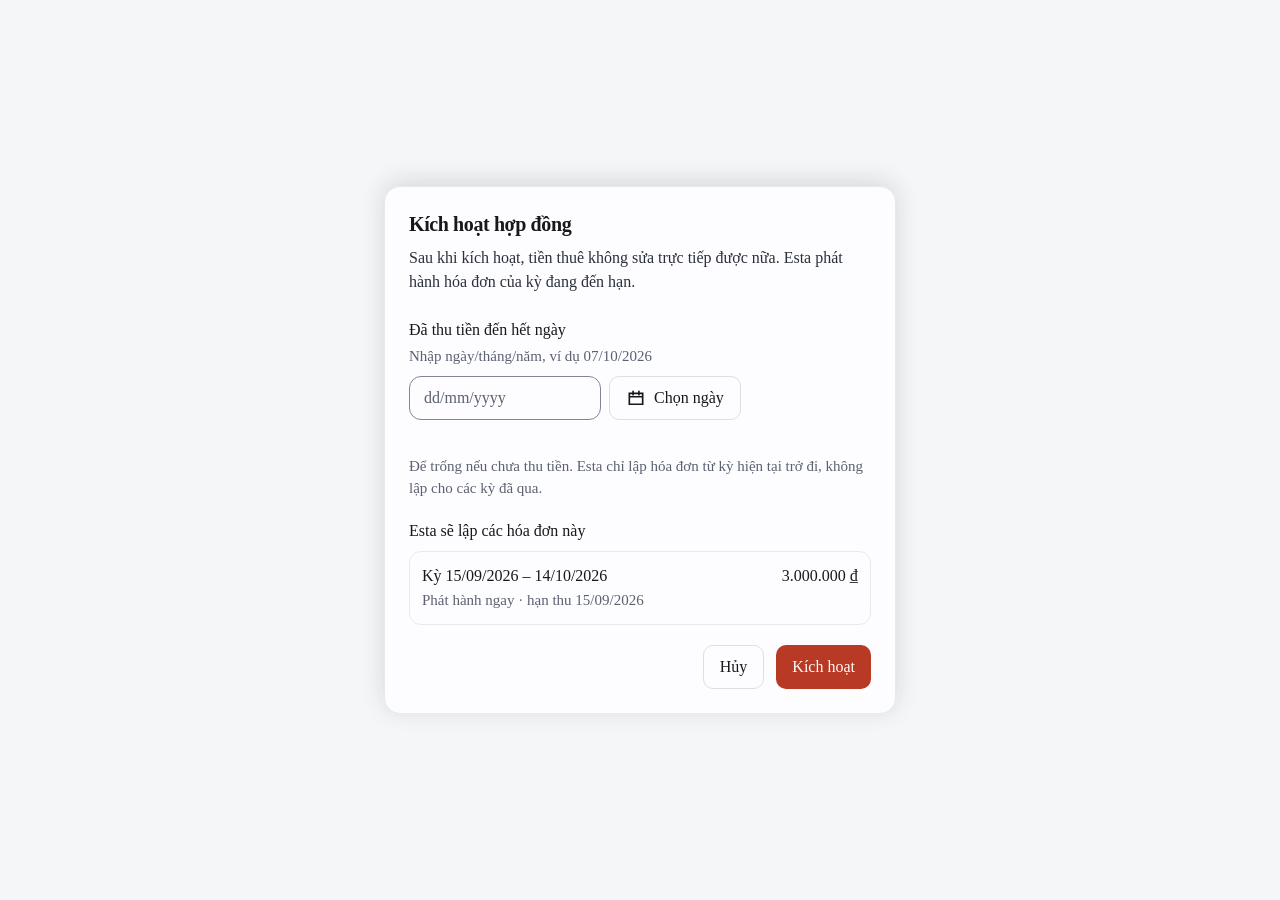
Test: ActivateLeaseDialog paid-through date › shows the server refusal of an unreadable date under the field
Click the button with test id "confirm-activate" at (824, 667), box [776, 645, 871, 689]
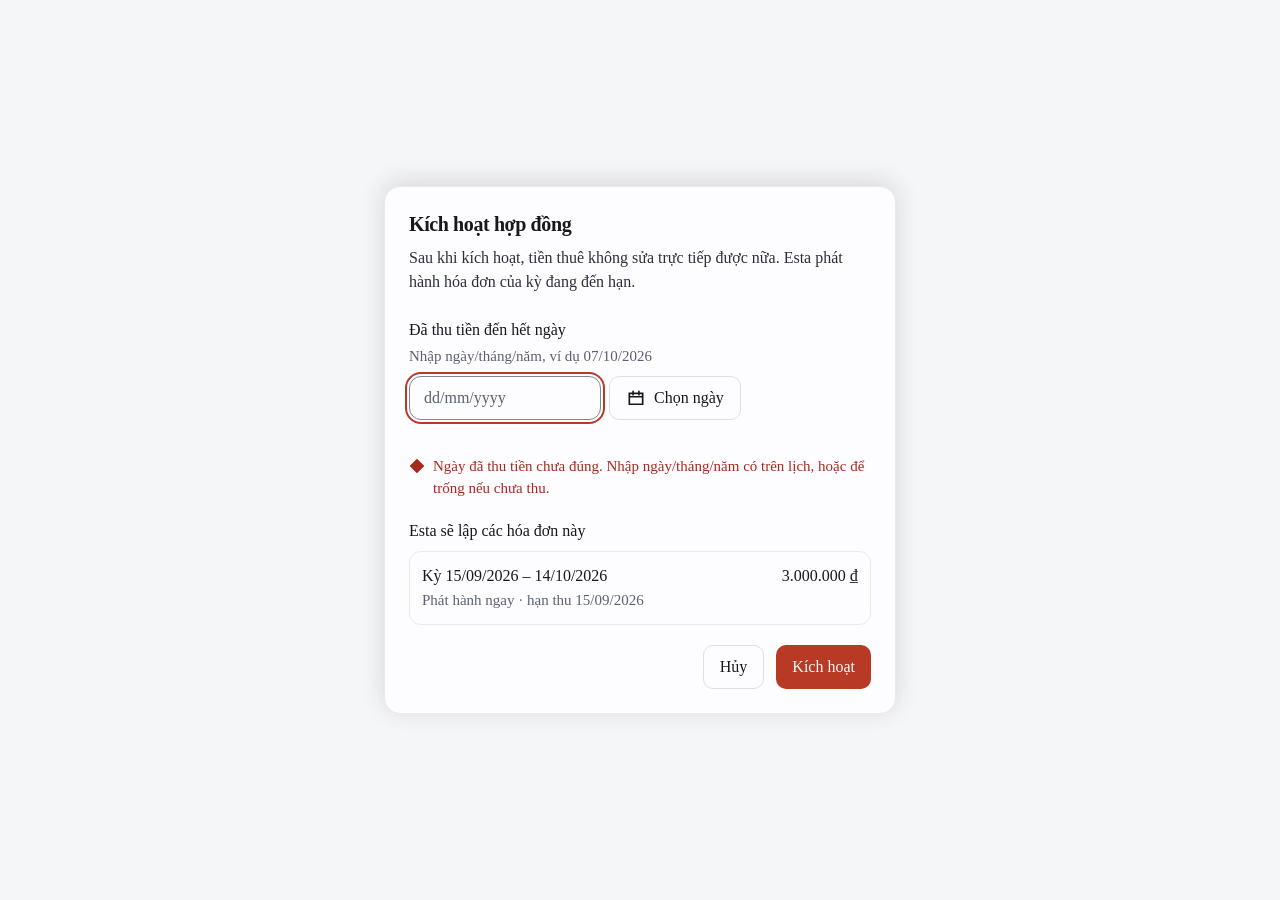
Expected: the message with test id "paid-through-refused" shows "Ngày đã thu tiền chưa đúng. Nhập ngày/tháng/năm có trên lịch, hoặc để trống nếu chưa thu.", [433, 458, 864, 496]
